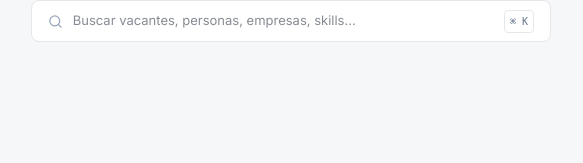
Test case: SearchBox › says so when nothing matches
This screenshot has width=583, height=163.
Type "zzz" into the dropdown.
click(283, 21); type("zzz")  # box [73,11,494,31]
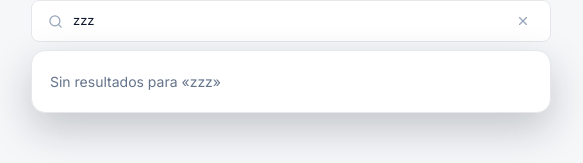
Expected: the text "Sin resultados para «zzz»" is shown, [50,73,221,90]
